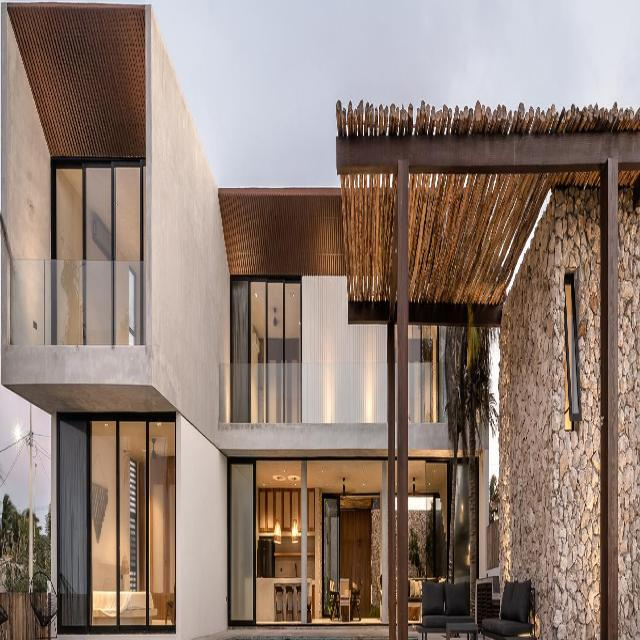door: (57, 415, 91, 619), (228, 462, 257, 627)
railing: (219, 362, 438, 426), (9, 254, 147, 343)
window: (232, 460, 476, 624), (91, 417, 175, 639), (50, 159, 146, 253), (232, 277, 303, 359), (421, 324, 439, 360)
